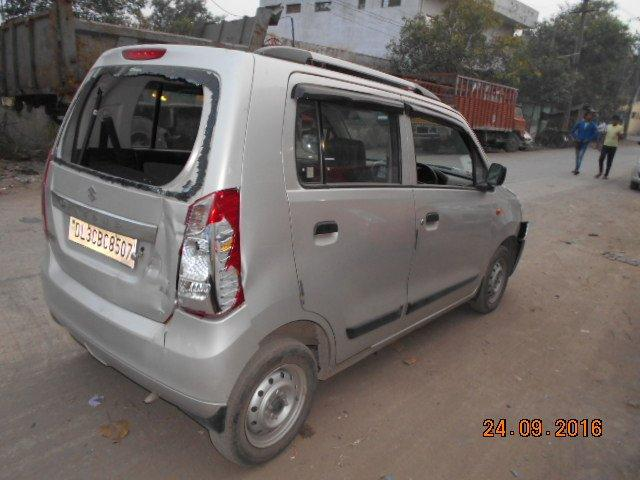Dent: (142, 199, 182, 305)
